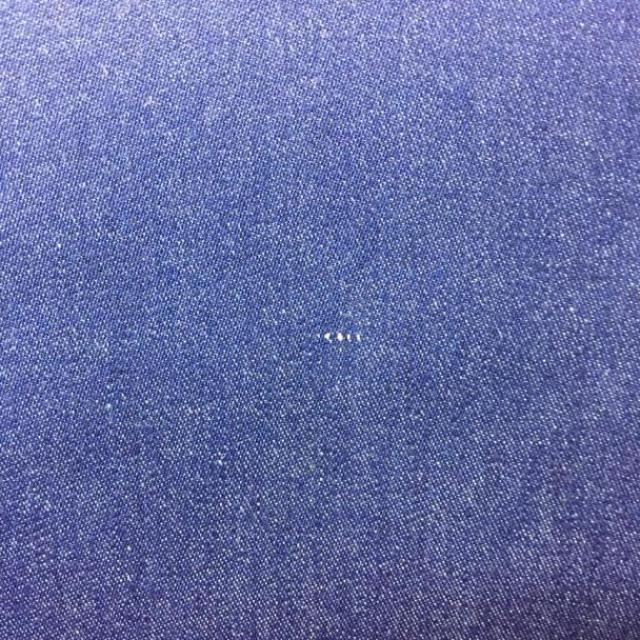Knot: (322, 332, 362, 344)
